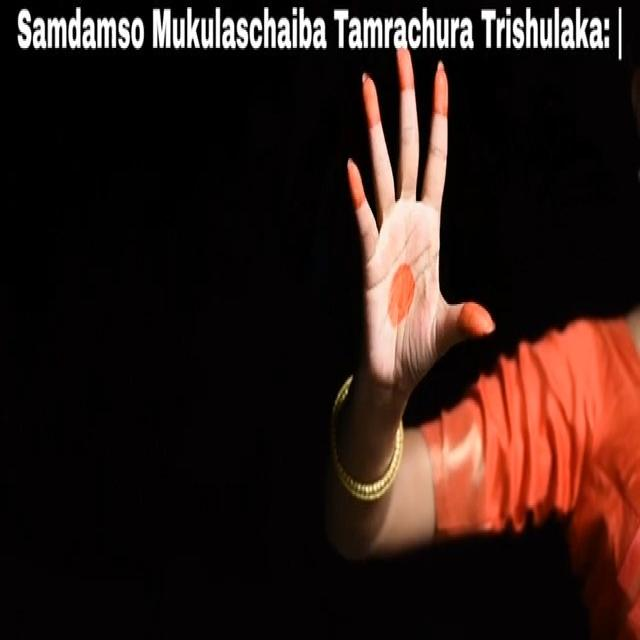Samdamsha: (342, 56, 502, 384)
bangle: (312, 391, 414, 512)
text: (11, 0, 632, 66)
